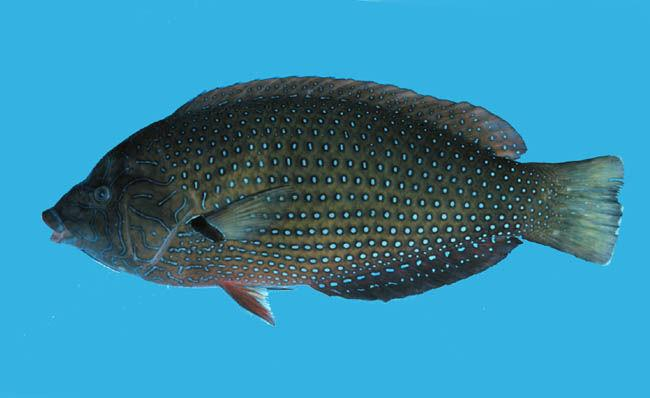fish: (40, 78, 625, 325)
